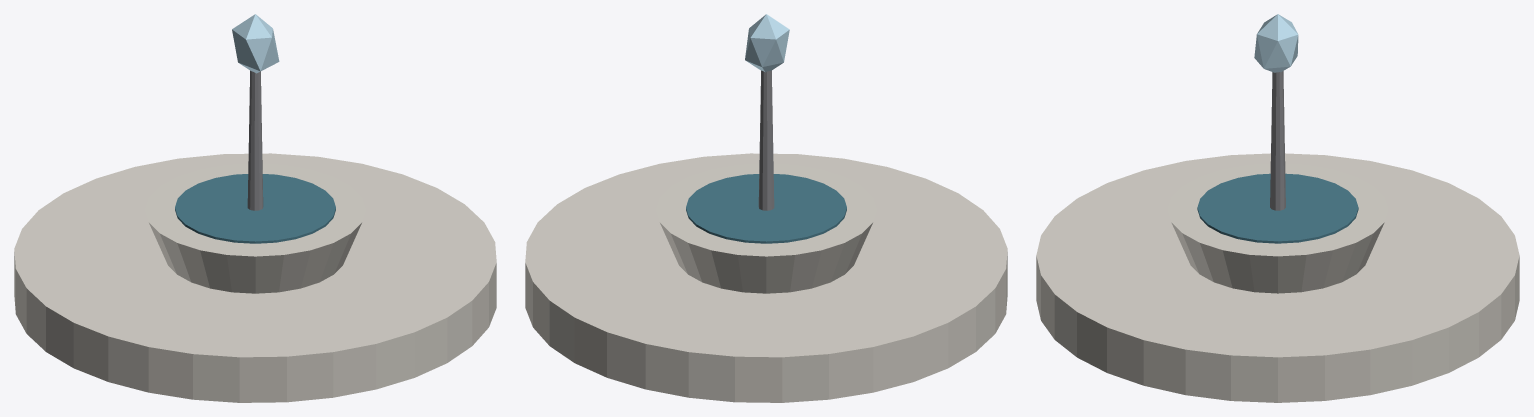
Rendered from fountain_4.glb.
3 views of the same model, side by side, from view 1: azimuth 30°, elevation 25°; view 2: azimuth 150°, elevation 25°; view 3: azimuth 270°, elevation 25° (orthographic).
Visible parts, largest first — view 1: fountain4_stone, fountain4_glass, fountain4_iron; view 2: fountain4_stone, fountain4_glass, fountain4_iron; view 3: fountain4_stone, fountain4_glass, fountain4_iron.
Part boxes in pixels (x1=…): fountain4_stone: x1=14, y1=153, x2=496, y2=402; fountain4_glass: x1=175, y1=14, x2=335, y2=243; fountain4_iron: x1=247, y1=70, x2=263, y2=210; fountain4_stone: x1=525, y1=153, x2=1007, y2=402; fountain4_glass: x1=686, y1=14, x2=846, y2=243; fountain4_iron: x1=758, y1=70, x2=774, y2=210; fountain4_stone: x1=1036, y1=153, x2=1519, y2=402; fountain4_glass: x1=1197, y1=14, x2=1358, y2=243; fountain4_iron: x1=1270, y1=71, x2=1285, y2=210.
Bounding box in the file's own units: 4.8 × 3.14 × 4.8.
